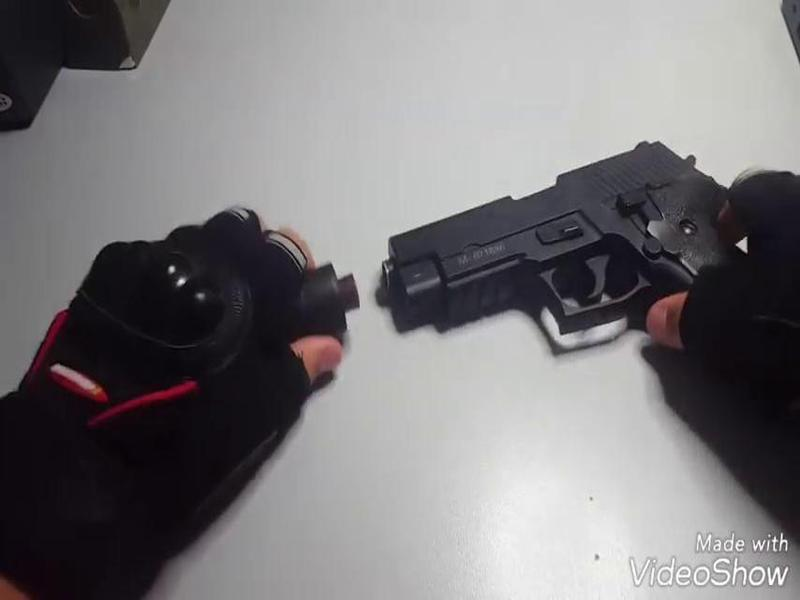Pistola: (375, 129, 800, 379)
